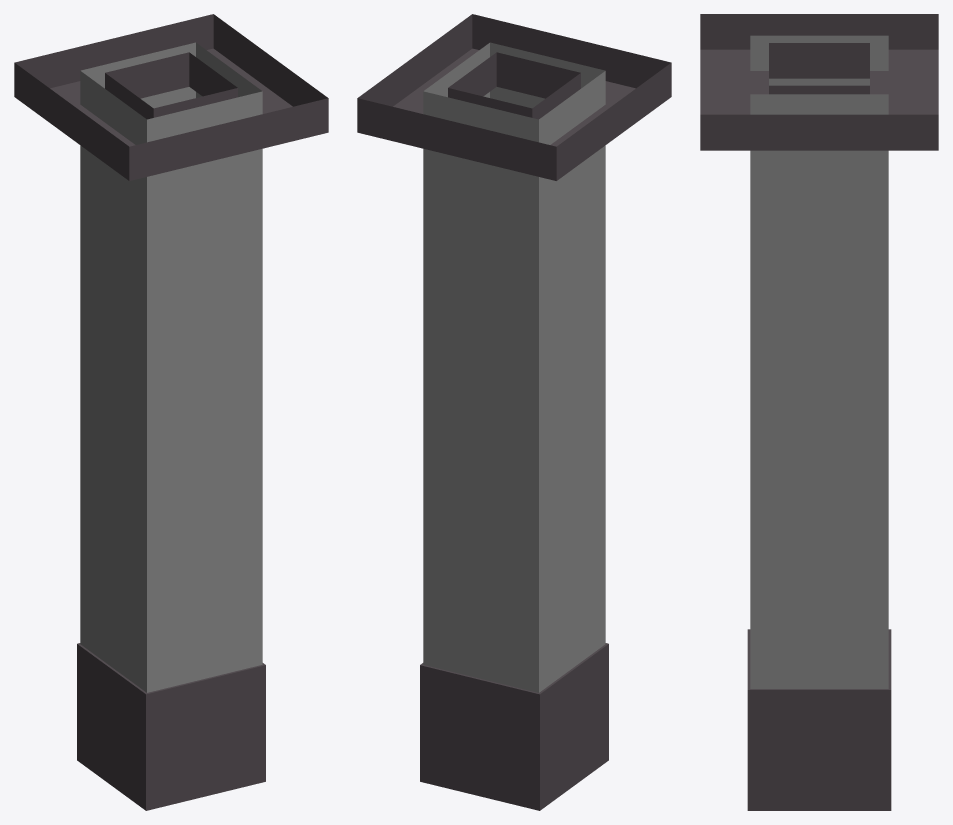
Rendered from SM_pillar_generic_03.fbx.
3 renders of one model, left to right at view 1: azimuth 30°, elevation 25°; view 2: azimuth 150°, elevation 25°; view 3: azimuth 270°, elevation 25°, orthographic. The views are drawn at different scales.
Visible parts, largest first — view 1: pillar_generic_03; view 2: pillar_generic_03; view 3: pillar_generic_03.
Part boxes in pixels (x1,y1,x2,y2): pillar_generic_03: [14, 14, 328, 810]; pillar_generic_03: [357, 14, 671, 810]; pillar_generic_03: [700, 14, 938, 810].
Size of the model in its own units: 125 by 416 by 125.
